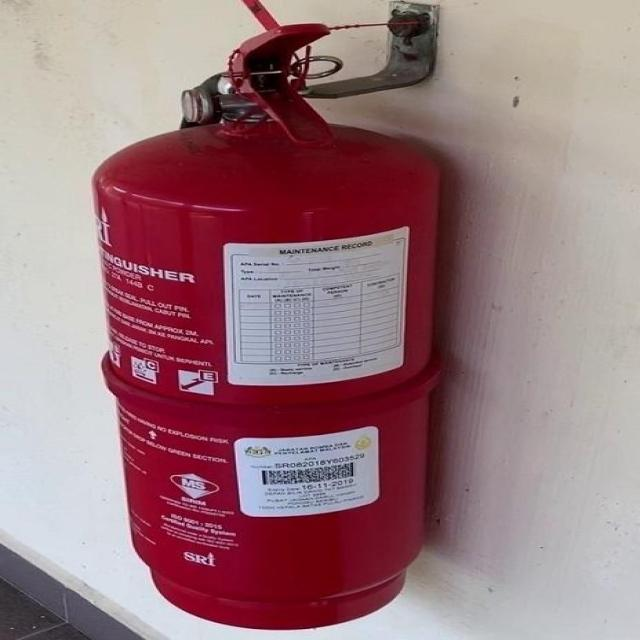fire_extinguisher: (81, 17, 473, 635)
